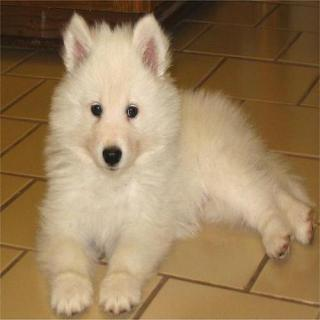dog: (49, 13, 182, 189)
nose: (101, 144, 123, 168)
